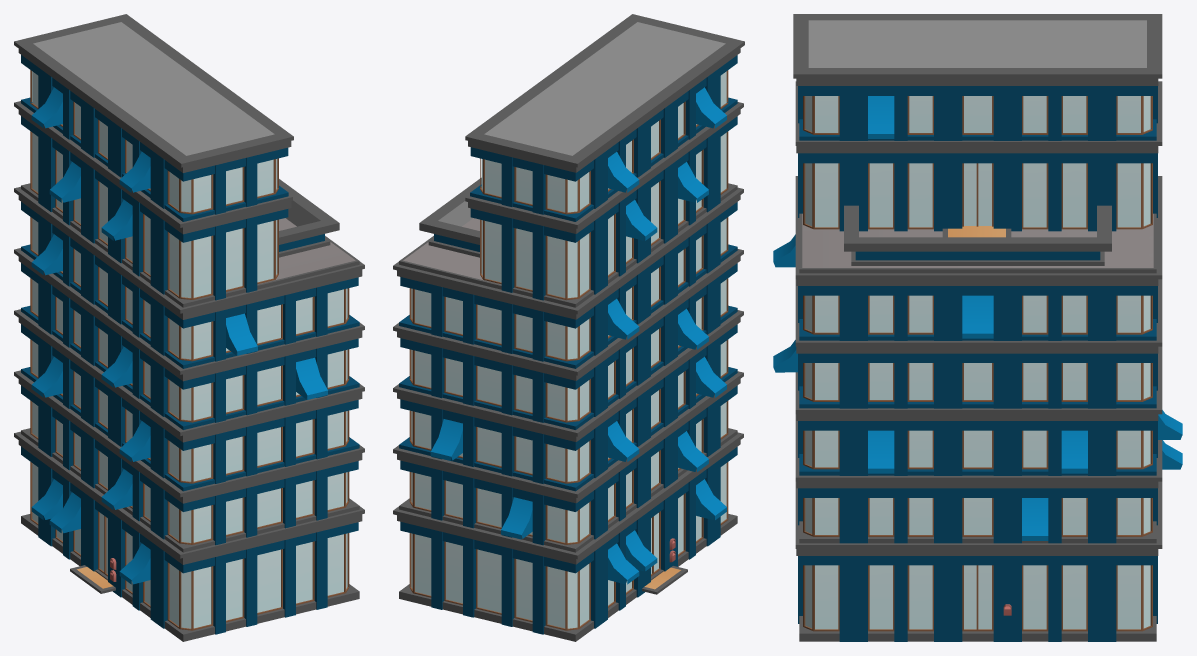
The picture shows the model from 3 angles, left to right: view 1: azimuth 30°, elevation 25°; view 2: azimuth 150°, elevation 25°; view 3: azimuth 270°, elevation 25°; orthographic projection. The views are drawn at different scales.
Visible parts, largest first — view 1: Canopy_21B; view 2: Canopy_21B; view 3: Canopy_21B.
Boxes of the visible parts, x1=… form: Canopy_21B: x1=14, y1=14, x2=364, y2=641; Canopy_21B: x1=393, y1=14, x2=744, y2=641; Canopy_21B: x1=773, y1=14, x2=1182, y2=641.
Size of the model in its own units: 17716 by 37650 by 26338.
